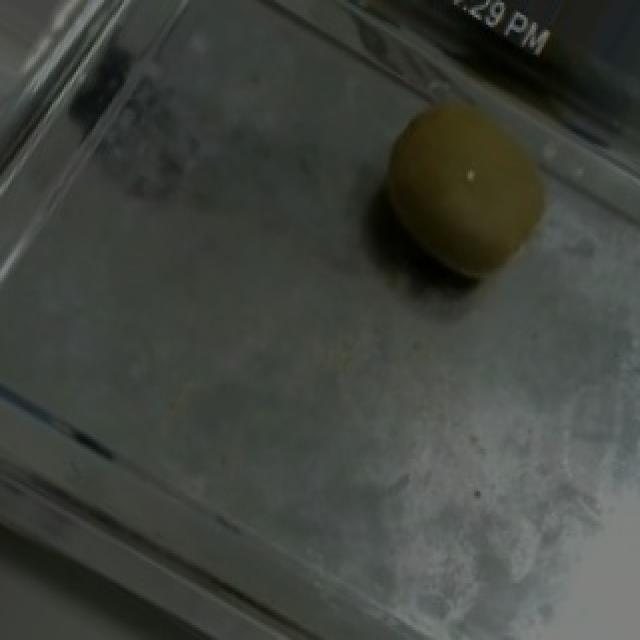Fruit: (334, 62, 588, 320)
